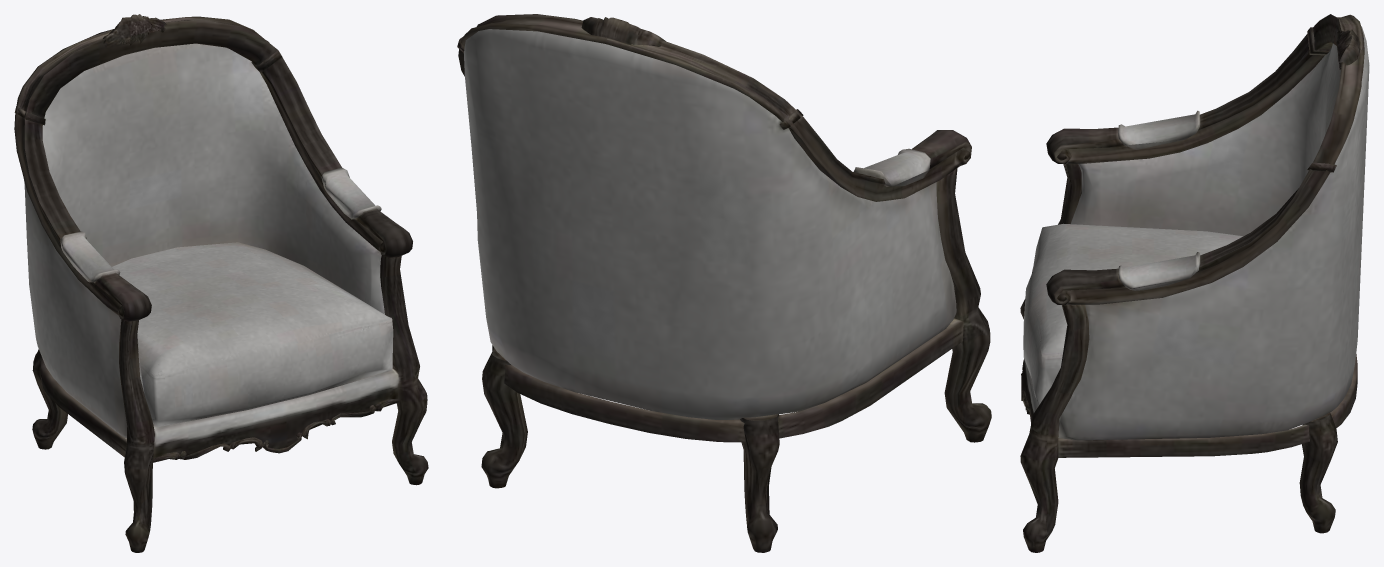
Rendered from armchair_01.glb.
3 renders of one model, left to right at view 1: azimuth 30°, elevation 25°; view 2: azimuth 150°, elevation 25°; view 3: azimuth 270°, elevation 25°, orthographic. The views are drawn at different scales.
Parts seen in each view (by area): view 1: ArmChair_01; view 2: ArmChair_01; view 3: ArmChair_01.
Boxes of the visible parts, x1,y1,x2,y2 form: ArmChair_01: (14,14,428,552); ArmChair_01: (457,14,991,552); ArmChair_01: (1020,14,1369,552).
Size of the model in its own units: 0.8482 by 1.06 by 0.7658.
1 material, 1 textured.
